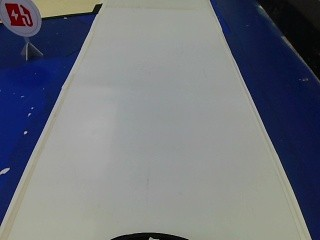battery: (0, 0, 45, 40)
